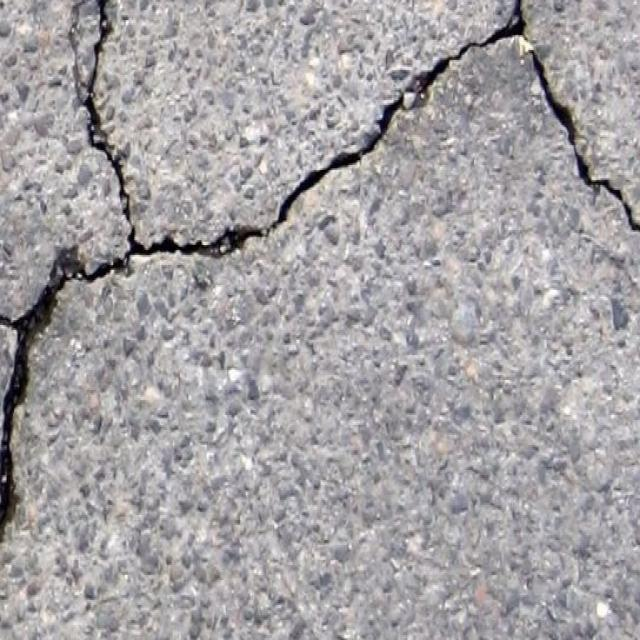crack: (142, 3, 638, 262), (1, 211, 143, 542), (68, 2, 136, 211)
